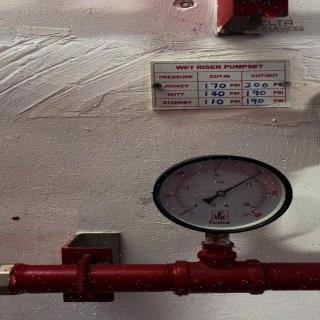gauge: (151, 156, 307, 232), (174, 206, 192, 220), (248, 205, 266, 219), (217, 190, 225, 196), (257, 170, 263, 176)
